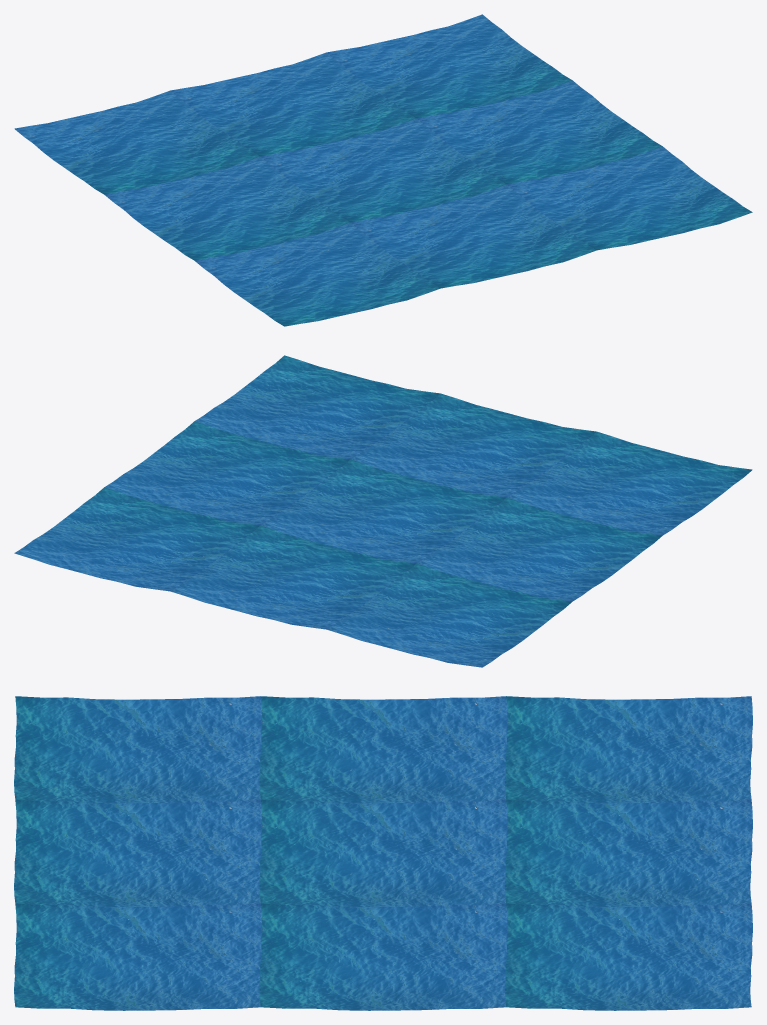
The model's file is ocean_000196.obj.
3 views of the same model, one above another, from view 1: azimuth 30°, elevation 25°; view 2: azimuth 150°, elevation 25°; view 3: azimuth 270°, elevation 25° (orthographic). The views are drawn at different scales.
Visible parts, largest first — view 1: Ocean_Plan.001; view 2: Ocean_Plan.001; view 3: Ocean_Plan.001.
Part boxes in pixels (bbox=[...]): Ocean_Plan.001: bbox=[14, 14, 752, 326]; Ocean_Plan.001: bbox=[14, 355, 752, 667]; Ocean_Plan.001: bbox=[14, 696, 752, 1010].
Bounding box in the file's own units: 109074 × 1544 × 109367.
Materials: 1 (1 with a texture image).
